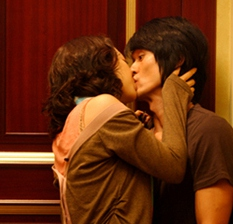face: (131, 42, 158, 97), (111, 39, 132, 97)
